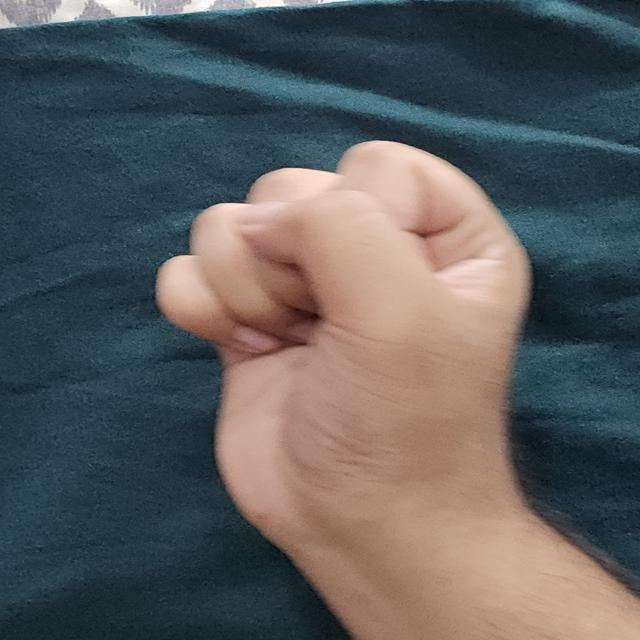ث: (141, 116, 565, 640)
